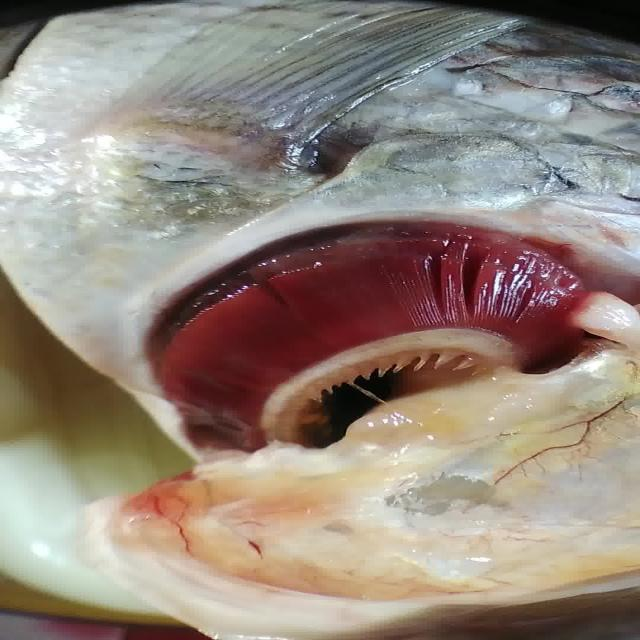Fresh: (122, 214, 640, 407)
